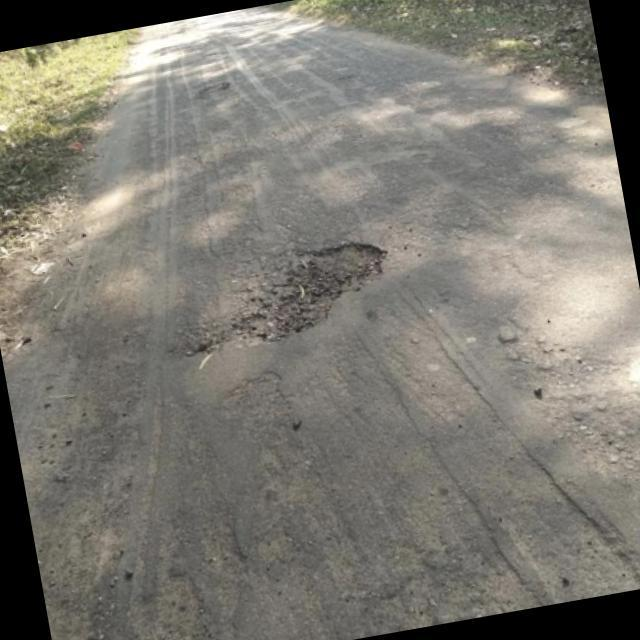Pothole: (180, 241, 385, 354)
